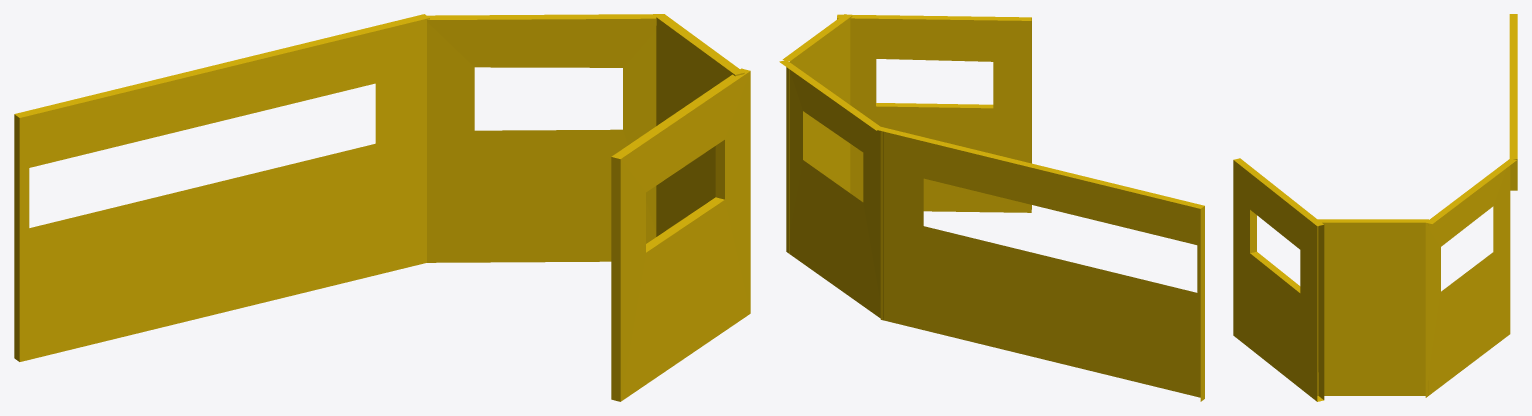
The model's file is ParedeVagaoFinal.fbx.
The picture shows the model from 3 angles, left to right: view 1: azimuth 30°, elevation 25°; view 2: azimuth 150°, elevation 25°; view 3: azimuth 270°, elevation 25°; orthographic projection. The views are drawn at different scales.
Parts seen in each view (by area): view 1: ParedeDentro4.002; view 2: ParedeDentro4.002; view 3: ParedeDentro4.002.
Boxes of the visible parts, <box> form: ParedeDentro4.002: <box>14,14,750,401</box>; ParedeDentro4.002: <box>779,14,1204,401</box>; ParedeDentro4.002: <box>1233,14,1517,401</box>.
Size of the model in its own units: 14583 by 5689 by 8294.
